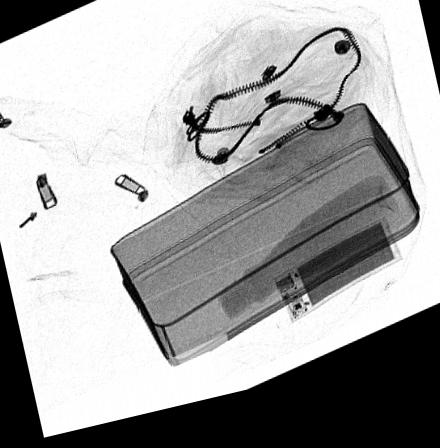Powerbank: (270, 233, 402, 337)
